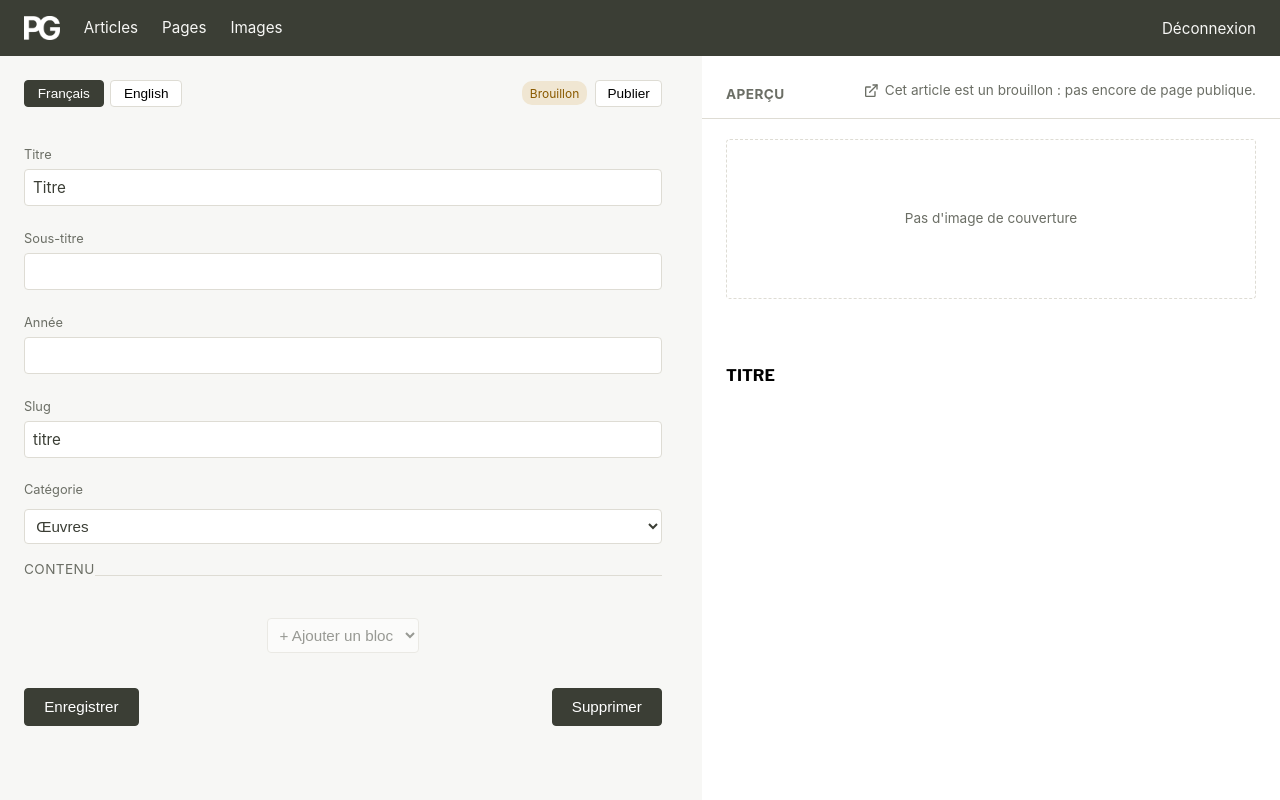
Admin nav unsaved-changes guard › prompts before an Articles/Pages/Images nav click when changes are unsaved, and stays put on Annuler
The width and height of the screenshot is (1280, 800).
Step 1. Type " modifié" into the field showing "Titre" → (343,188), box [24,170,662,206]
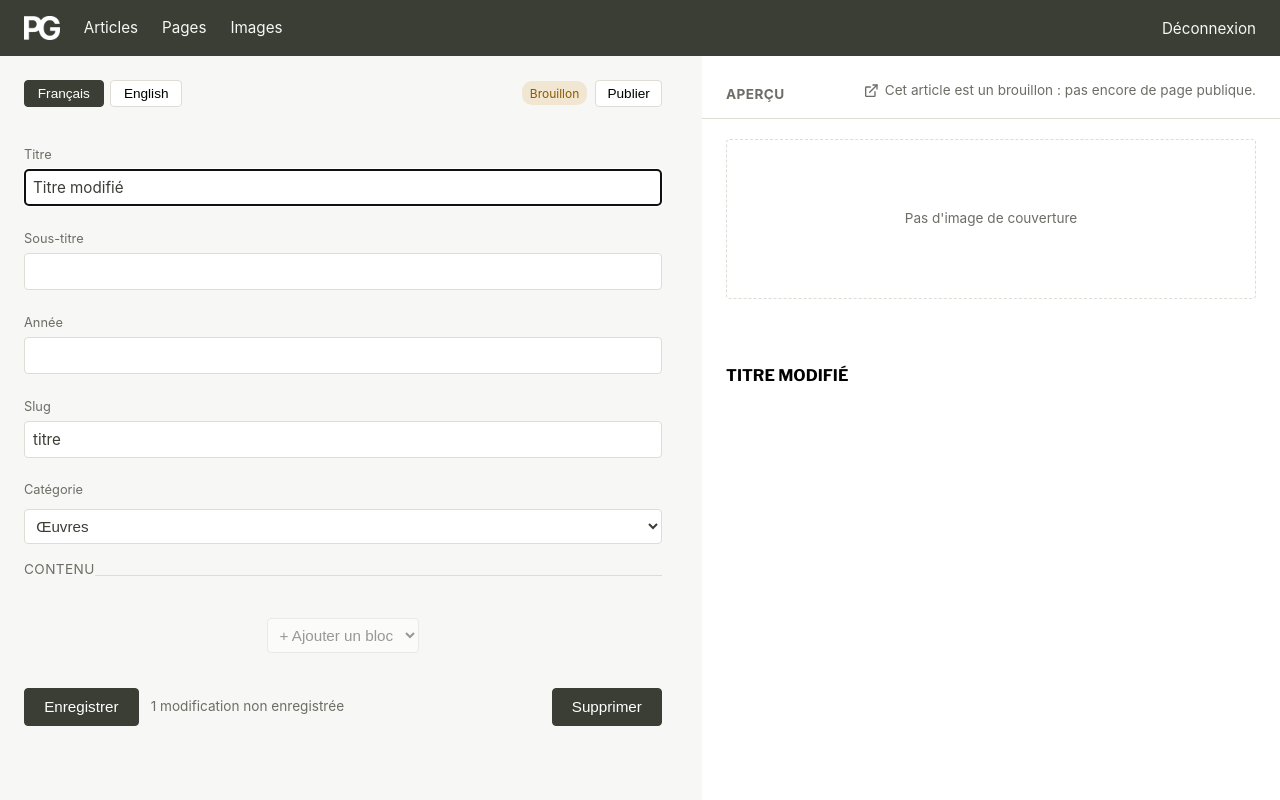
Step 2. Click the link "Pages" → (184,28), box [162,16,206,40]
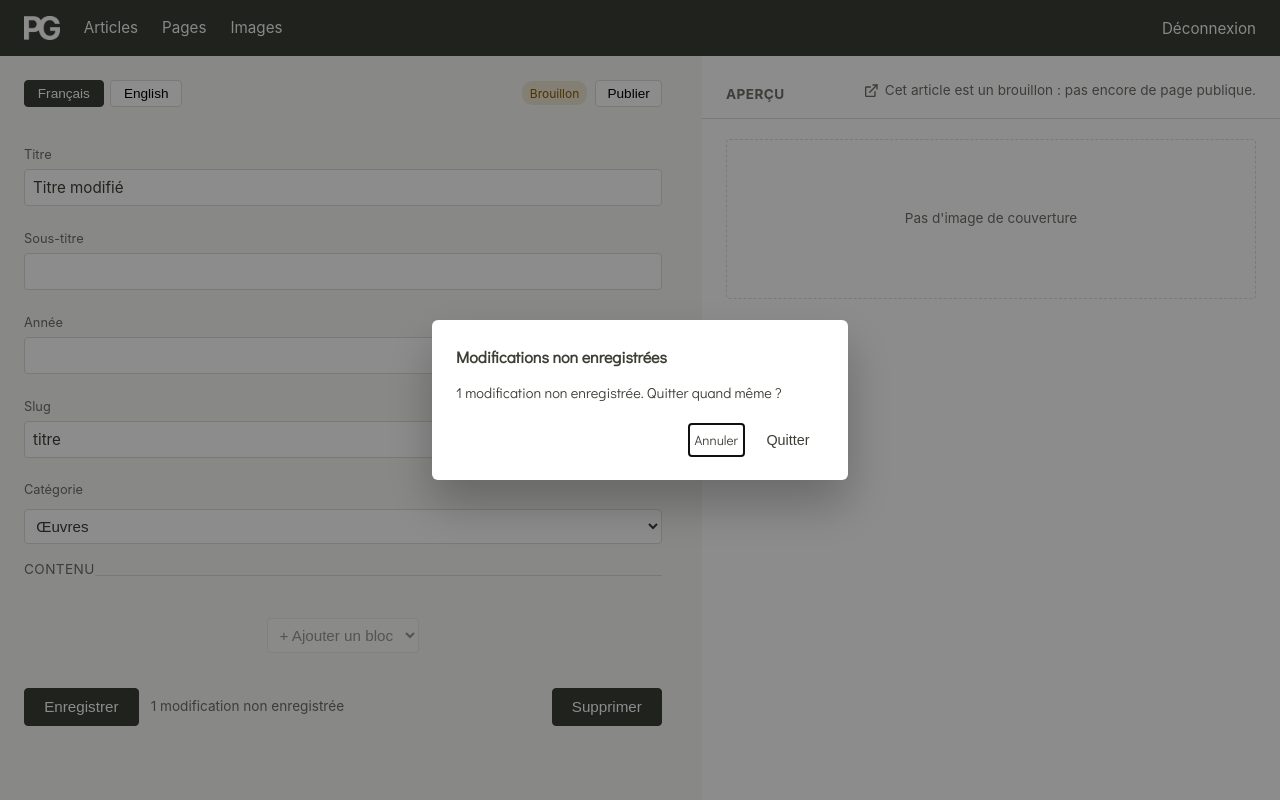
expect the field showing "Titre" is shown: met, box [24,170,662,206]
expect the dialog is shown: met, box [432,320,848,480]
expect the text "1 modification non enregistrée. Quitter quand même ?" is shown: met, box [456,381,824,404]
Step 3. Click the button "Annuler" → (716,440), box [688,424,744,456]
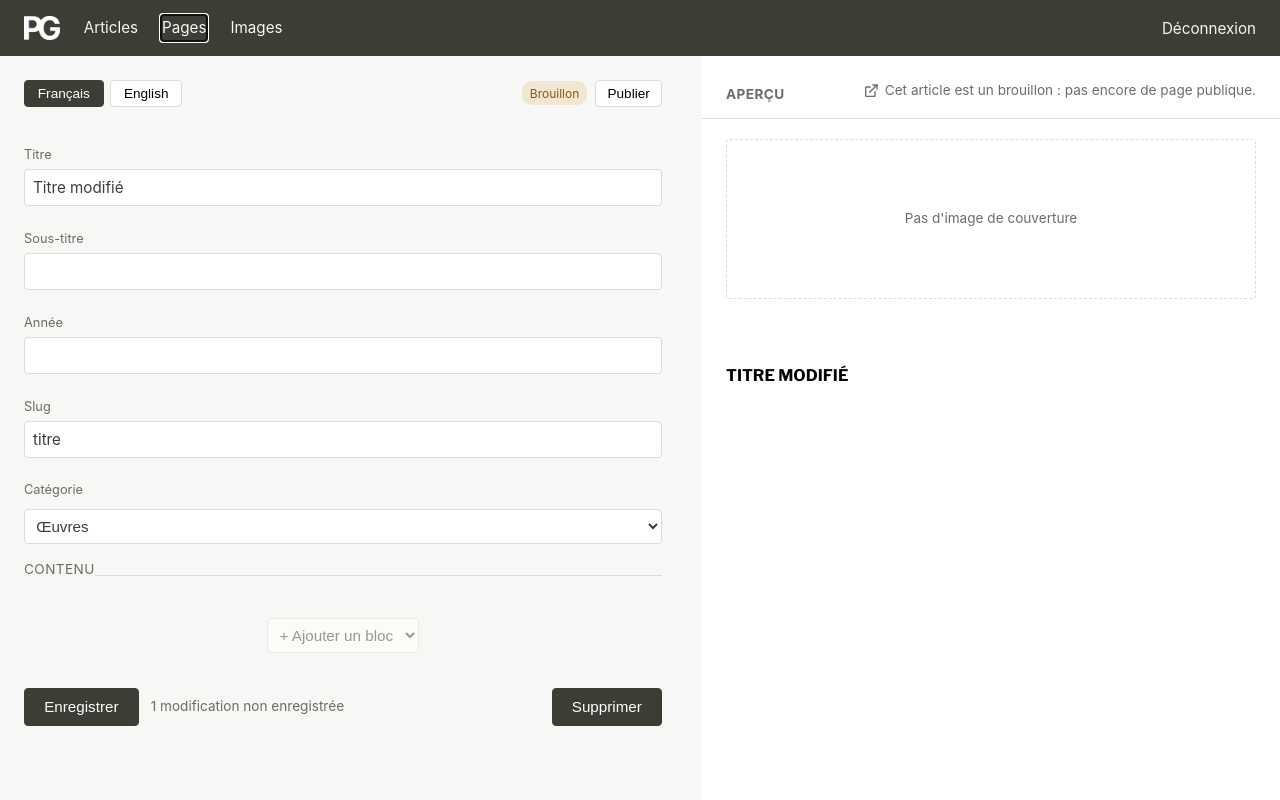
expect the field showing "Titre" is shown: met, box [24,170,662,206]
expect the dialog is gone: met
